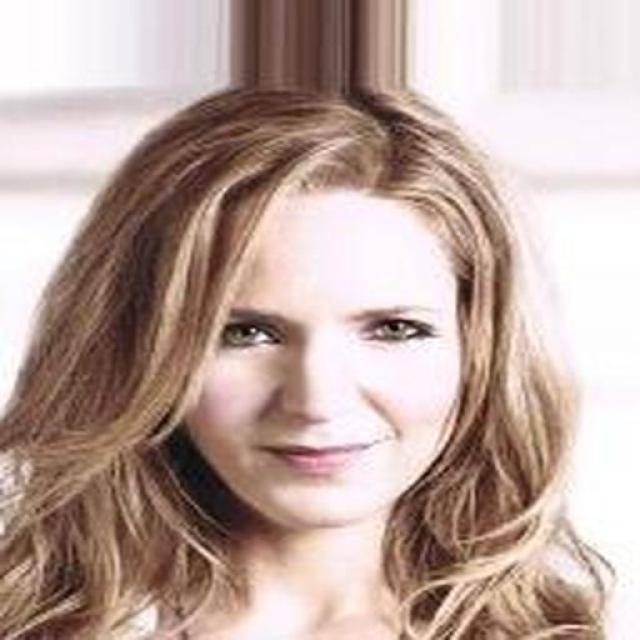bareface: (126, 100, 480, 544)
